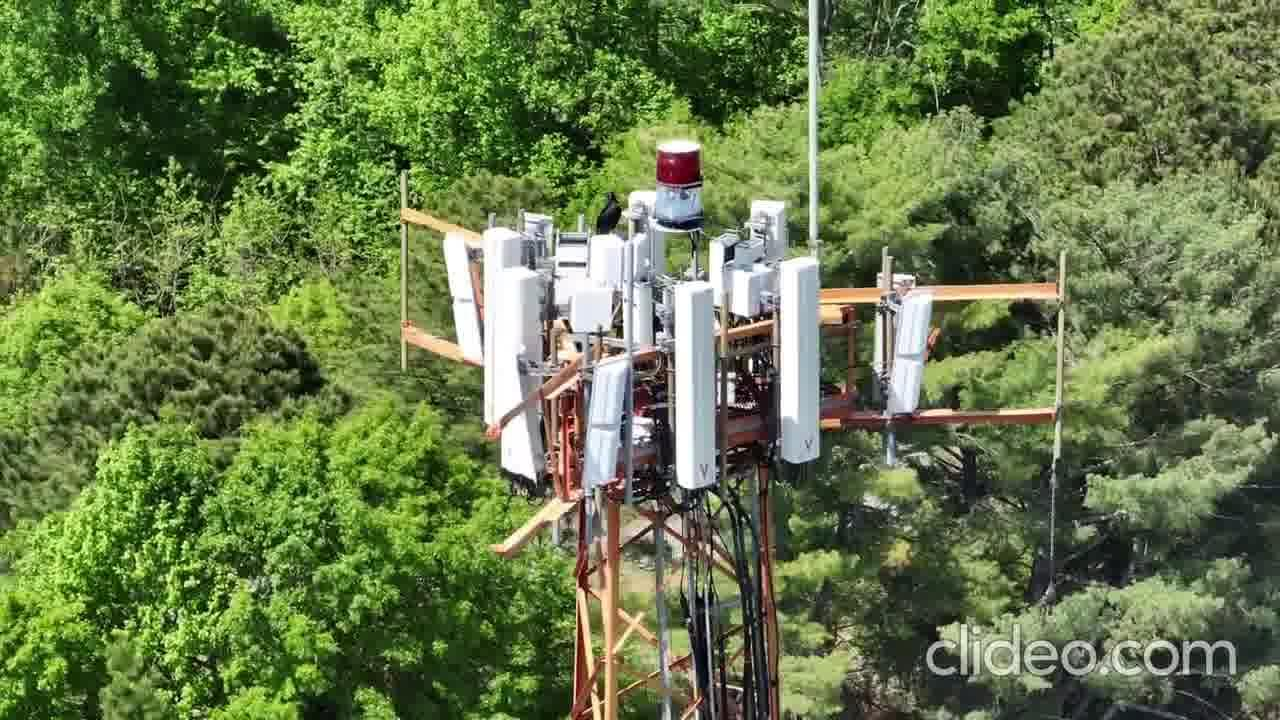antenna: (489, 264, 555, 476), (669, 276, 729, 496), (775, 253, 830, 470), (469, 224, 521, 371), (888, 290, 942, 427), (585, 353, 628, 497)
